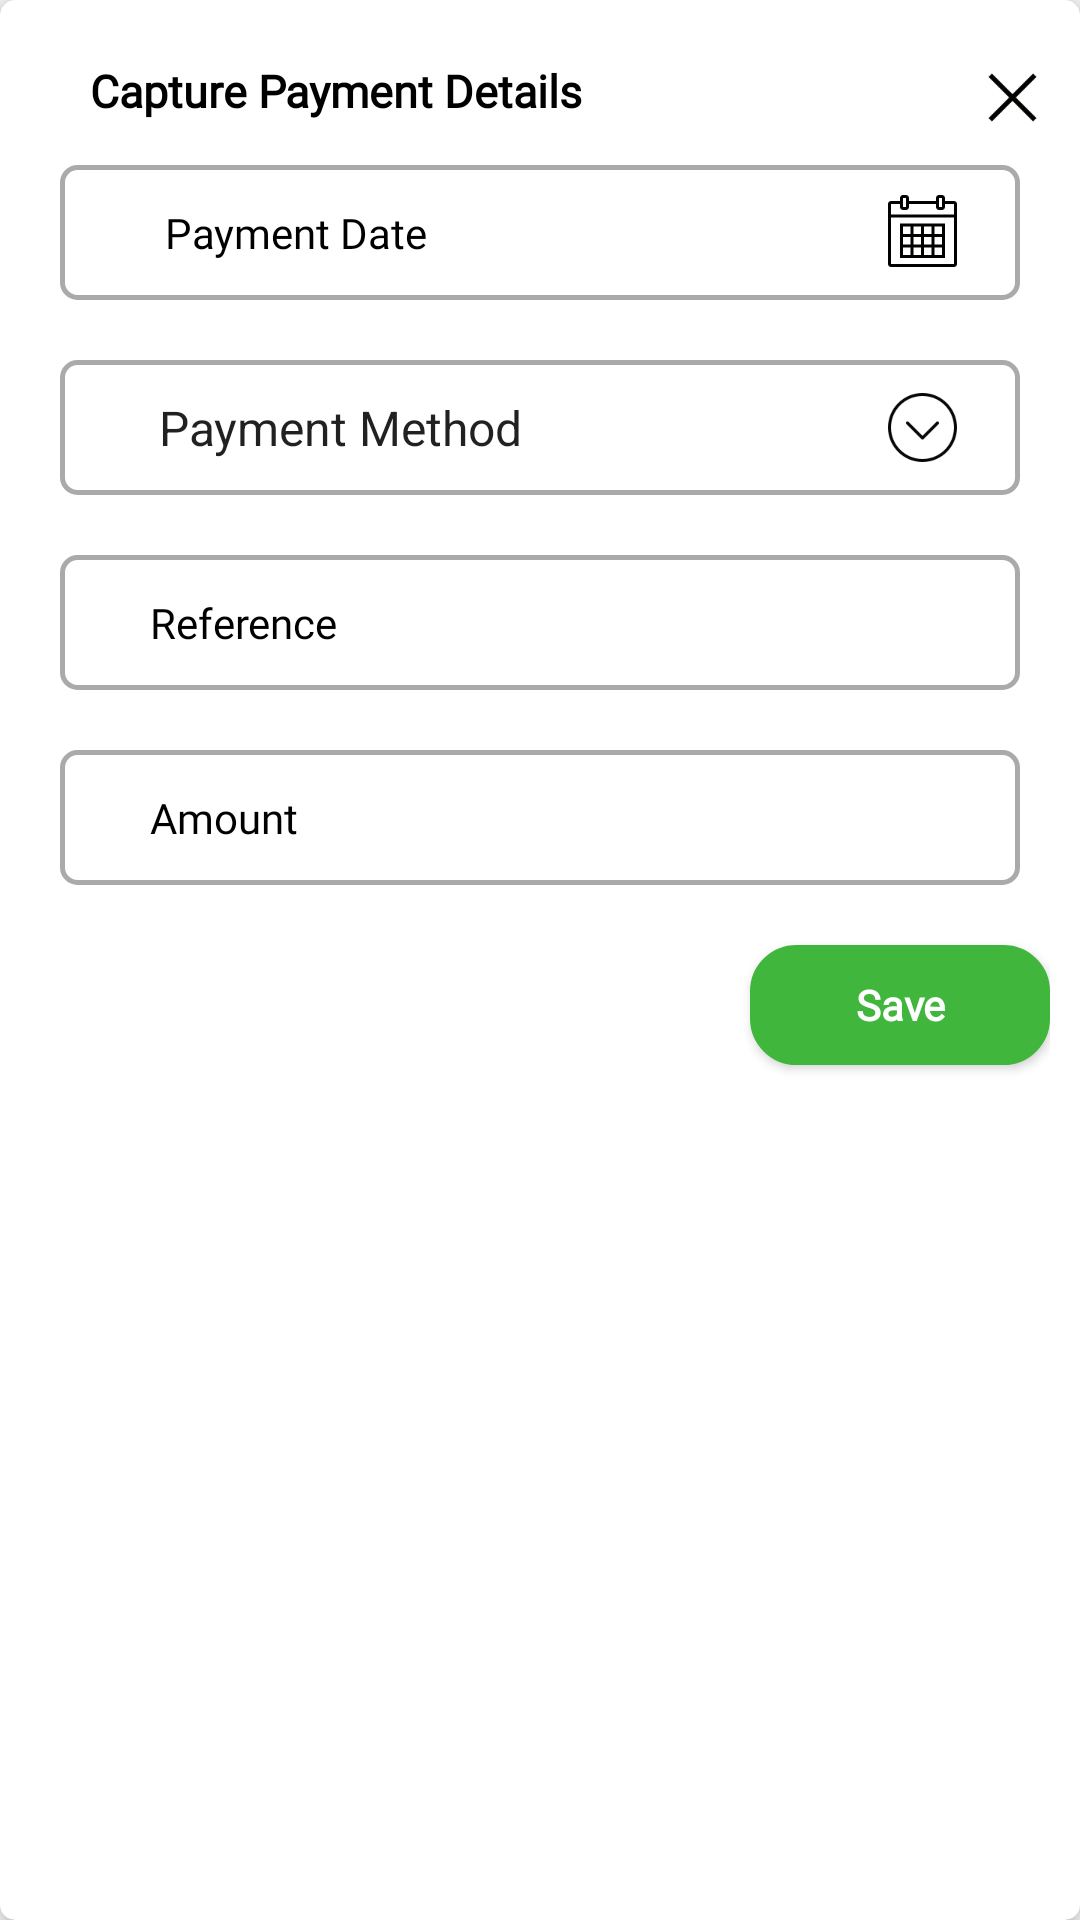

Named icons in this screenshot (1080 × 1920) and their bounding boxes, [x1, y1, x2, y2]:
calendar: [888, 195, 957, 267]
cross: [988, 73, 1037, 122]
